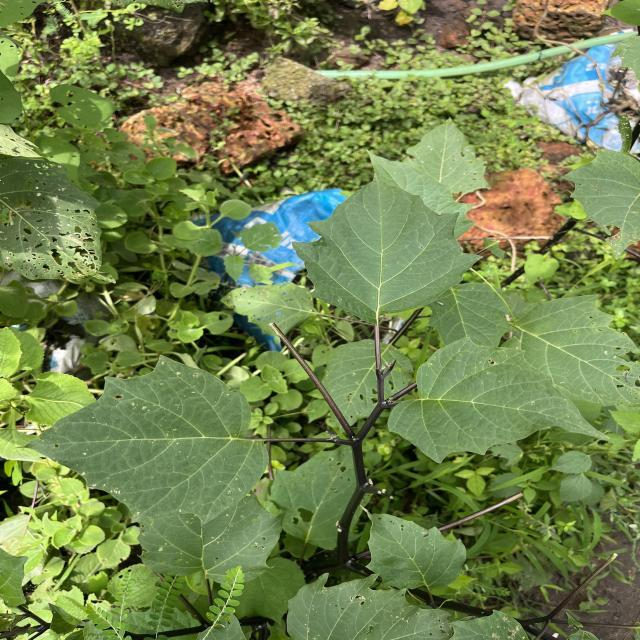Datura metal linn: (13, 350, 271, 528), (287, 168, 486, 326), (385, 333, 613, 465), (356, 499, 469, 594)
